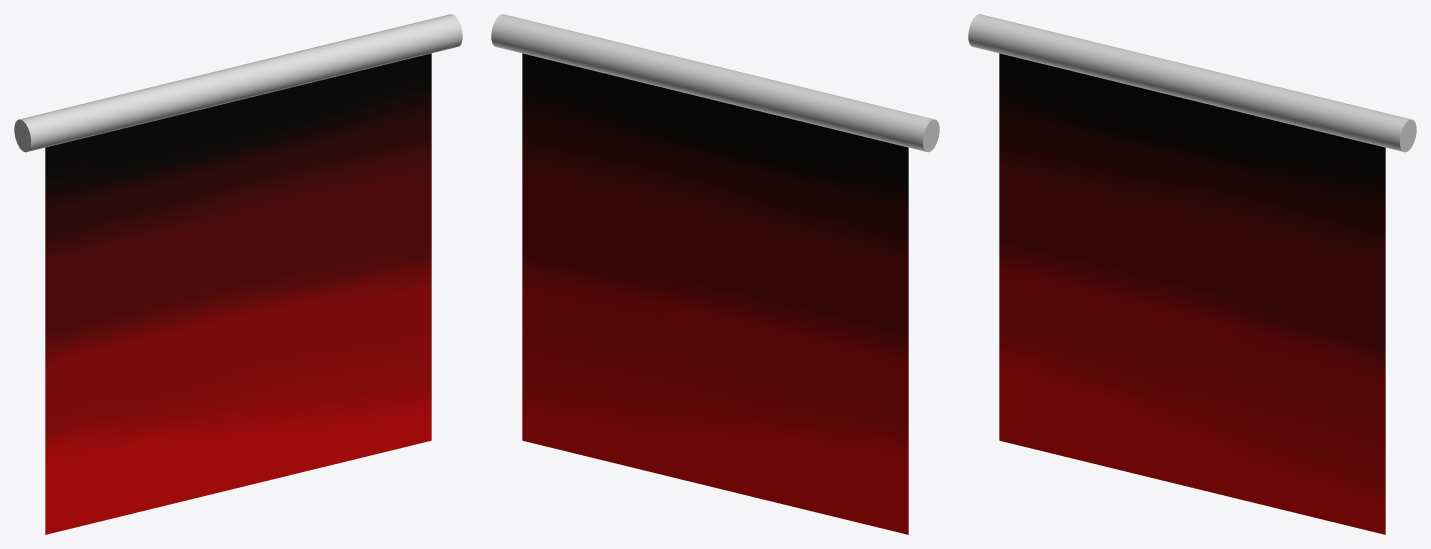
File: Vertex_Paint_Cloth.FBX
3 renders of one model, left to right at view 1: azimuth 30°, elevation 25°; view 2: azimuth 150°, elevation 25°; view 3: azimuth 330°, elevation 25°, orthographic.
Visible parts, largest first — view 1: Cloth_Test, Pole_Pin; view 2: Cloth_Test, Pole_Pin; view 3: Cloth_Test, Pole_Pin.
Boxes of the visible parts, x1=… form: Cloth_Test: x1=45, y1=53, x2=431, y2=534; Pole_Pin: x1=14, y1=14, x2=462, y2=152; Cloth_Test: x1=522, y1=53, x2=908, y2=534; Pole_Pin: x1=491, y1=14, x2=939, y2=152; Cloth_Test: x1=999, y1=53, x2=1385, y2=534; Pole_Pin: x1=968, y1=14, x2=1416, y2=152.
Size of the model in its own units: 2.23 by 2.08 by 0.1497.
